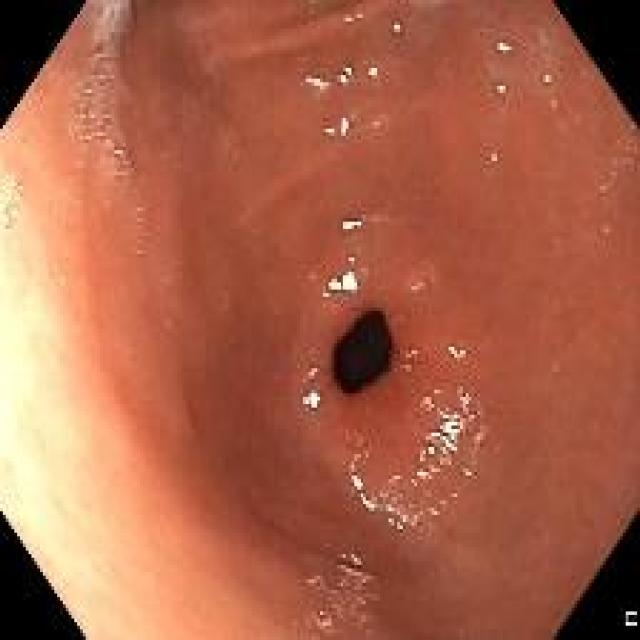bubbles: (71, 72, 119, 139), (97, 141, 130, 180), (91, 6, 127, 38), (87, 43, 119, 68), (4, 199, 24, 233), (310, 607, 334, 629), (348, 593, 372, 612), (338, 548, 360, 566), (402, 348, 417, 373), (481, 20, 498, 36), (134, 203, 146, 221), (185, 109, 200, 123), (625, 140, 637, 157), (14, 180, 24, 197), (209, 89, 219, 102)
contrast: (330, 306, 392, 396)
saturation: (0, 160, 153, 640)
specularity: (426, 412, 466, 464), (341, 271, 358, 292), (303, 389, 319, 408), (342, 218, 361, 233), (338, 65, 353, 84), (358, 494, 375, 510), (325, 276, 341, 291), (303, 74, 321, 87), (498, 40, 512, 53), (338, 116, 348, 134), (352, 476, 363, 490), (389, 520, 403, 530), (366, 66, 376, 78), (541, 72, 551, 83), (391, 21, 400, 32), (463, 469, 473, 478), (422, 396, 431, 405), (496, 83, 504, 93), (345, 255, 355, 263), (324, 128, 335, 134)
